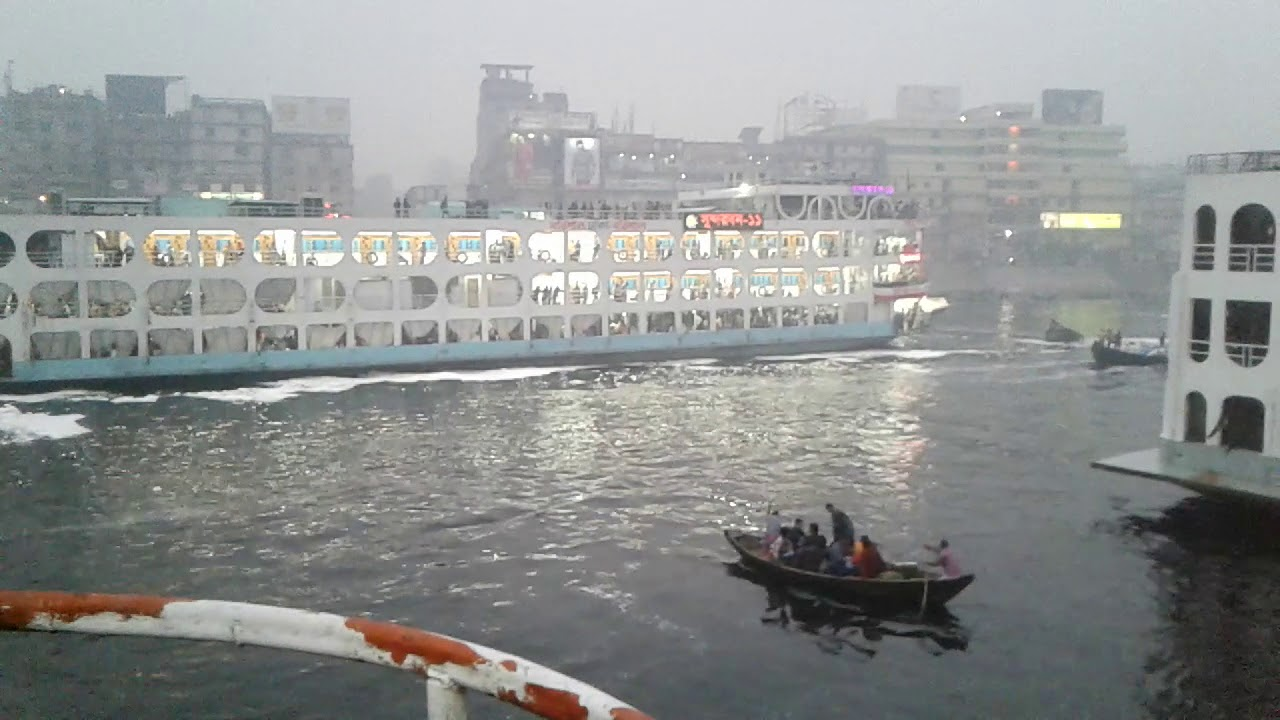boat: (726, 523, 978, 606), (1089, 342, 1167, 371), (1042, 315, 1085, 346)
launch: (1, 171, 948, 396), (1083, 149, 1280, 506)
